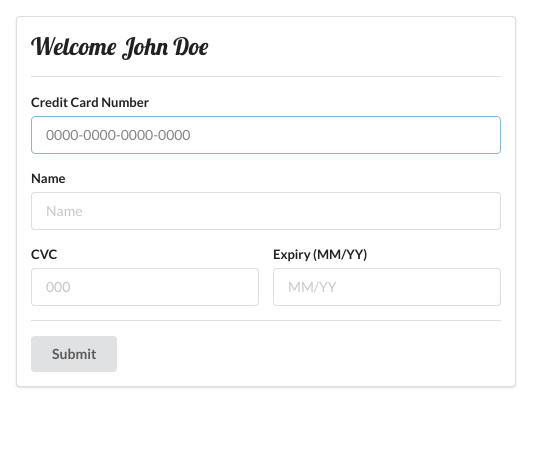
it: submit invalid name
The image size is (533, 468).
Enter an invalid credit card number
Type "123" into the field with test id "credit-card-holder-name-text-input" at (266, 211), box [31, 192, 501, 230]
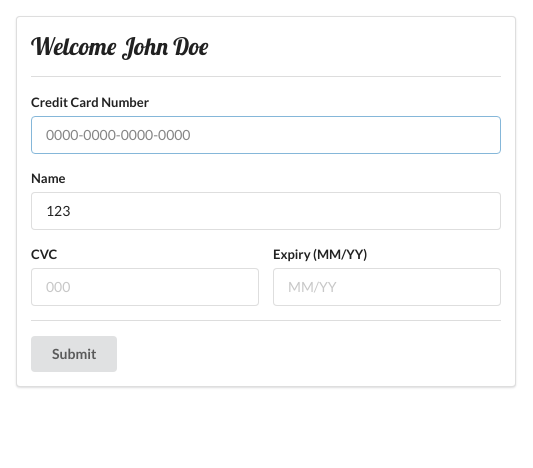
Click submit
Click the button "Submit" at (74, 354), box [31, 336, 118, 372]
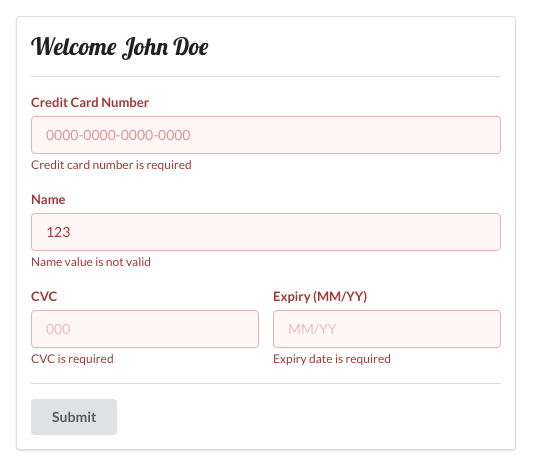
expect the text "Name value is not valid" is shown: met, box [31, 254, 151, 269]
